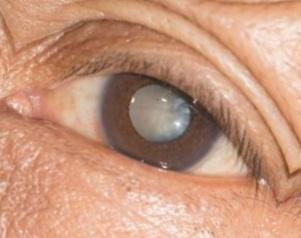eye: (101, 73, 217, 174)
